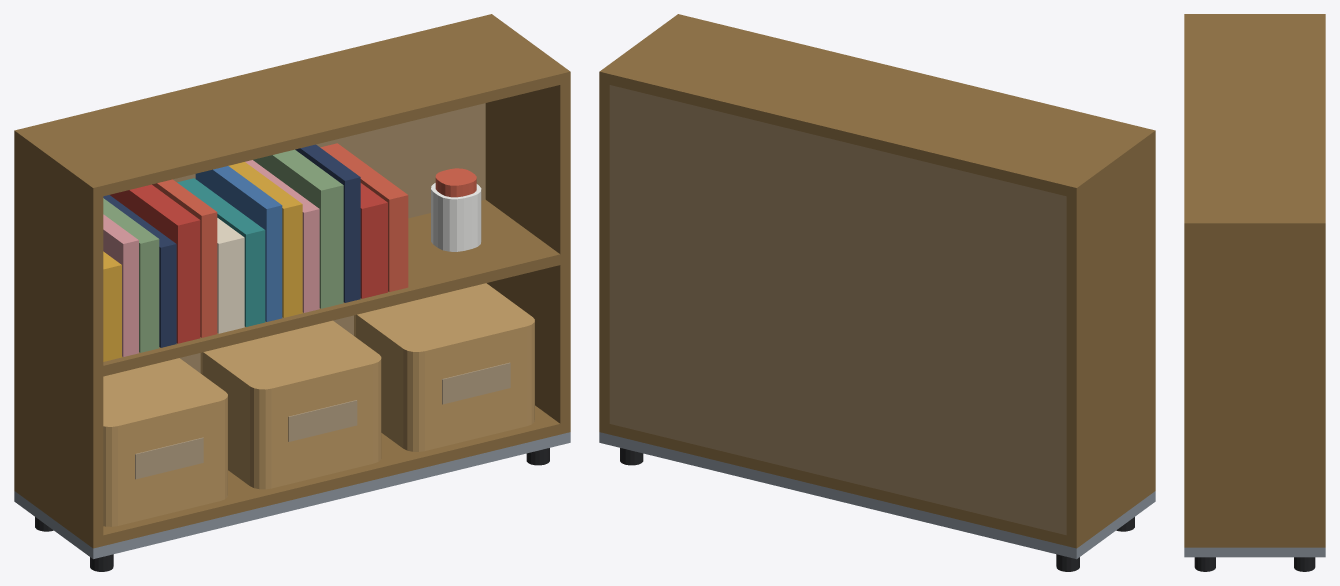
Rendered from rolling_shelf_wide.glb.
3 renders of one model, left to right at view 1: azimuth 30°, elevation 25°; view 2: azimuth 150°, elevation 25°; view 3: azimuth 270°, elevation 25°, orthographic. The views are drawn at different scales.
Parts seen in each view (by area): view 1: rolling_shelf_wide_Body; view 2: rolling_shelf_wide_Body; view 3: rolling_shelf_wide_Body.
Boxes of the visible parts, x1,y1,x2,y2 form: rolling_shelf_wide_Body: (14, 14, 570, 571); rolling_shelf_wide_Body: (599, 14, 1155, 571); rolling_shelf_wide_Body: (1184, 14, 1325, 571).
Bounding box in the file's own units: 1.4 × 1.1 × 0.4.
